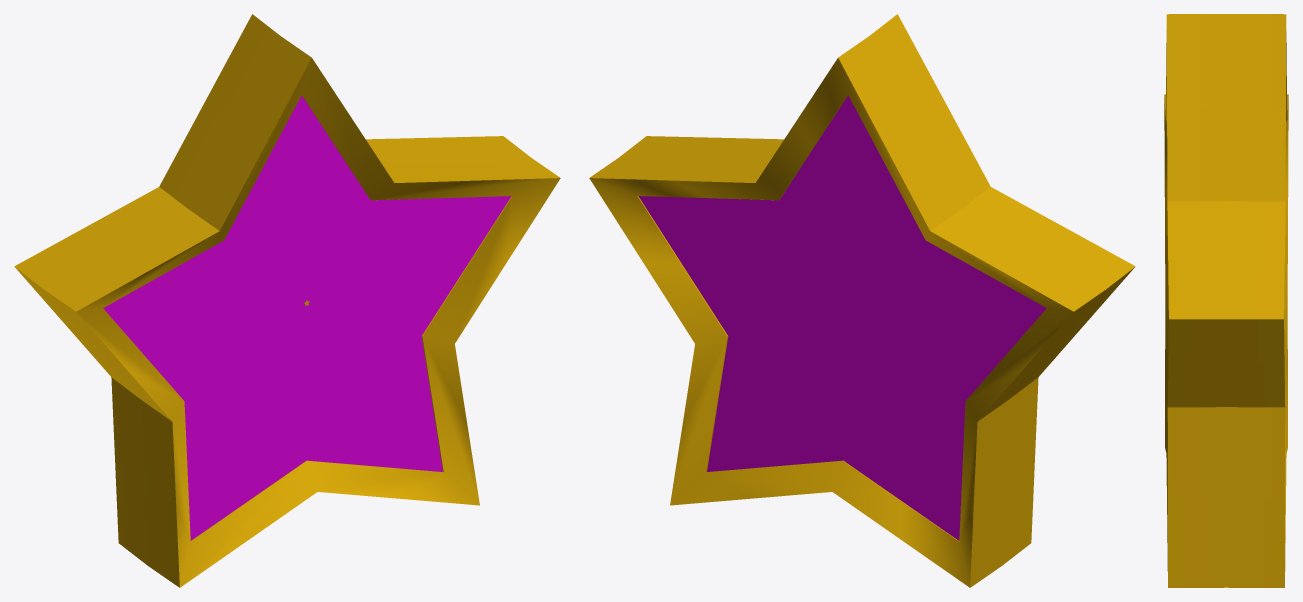
The model's file is StarCollectable.fbx.
3 renders of one model, left to right at view 1: azimuth 30°, elevation 25°; view 2: azimuth 150°, elevation 25°; view 3: azimuth 270°, elevation 25°, orthographic.
Parts seen in each view (by area): view 1: pCylinder1; view 2: pCylinder1; view 3: pCylinder1.
Boxes of the visible parts, box(x1,y1,x2,y2) form: pCylinder1: box(14, 14, 560, 587); pCylinder1: box(589, 14, 1135, 587); pCylinder1: box(1164, 14, 1288, 587).
Size of the model in its own units: 1.8 by 1.75 by 0.3955.
